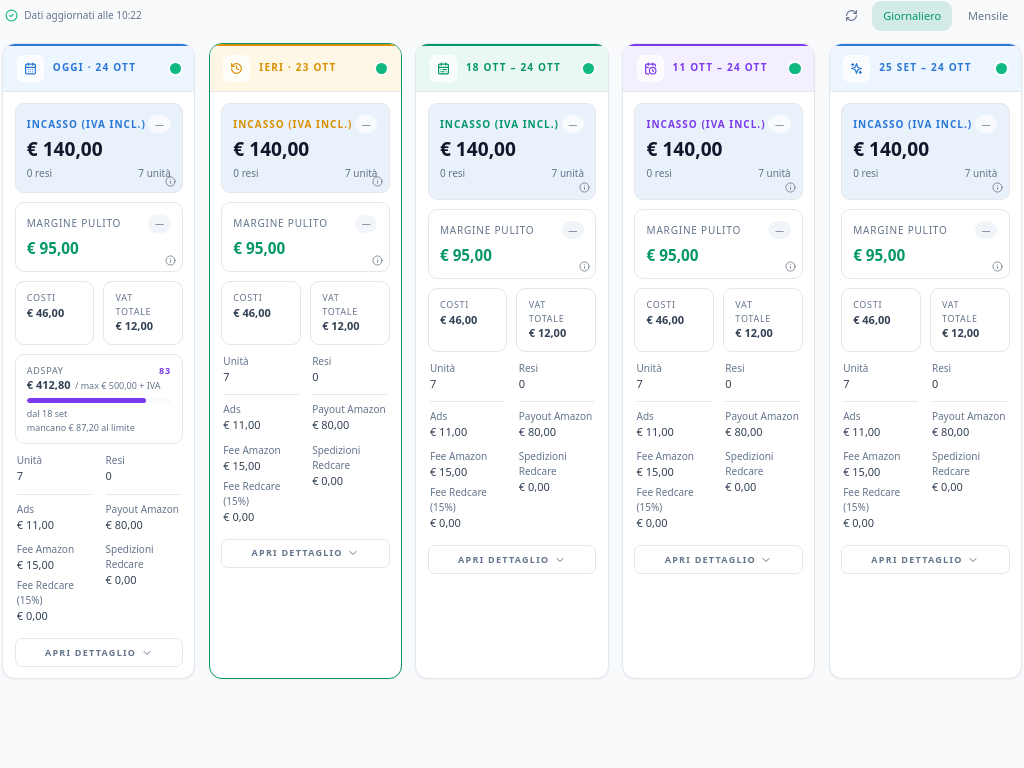
Scenario: PeriodTiles › clicking the Margine pulito box explains the calculation without changing the period
The image size is (1024, 768).
Check: the text "€ 95,00" is shown 5 times, box [27, 238, 79, 258]; [233, 238, 285, 258]; [440, 245, 492, 265]; [646, 245, 698, 265]; [853, 245, 905, 265]
Click the button with aria-label "come è calcolato: margine pulito" at (99, 237), box [14, 202, 183, 272]
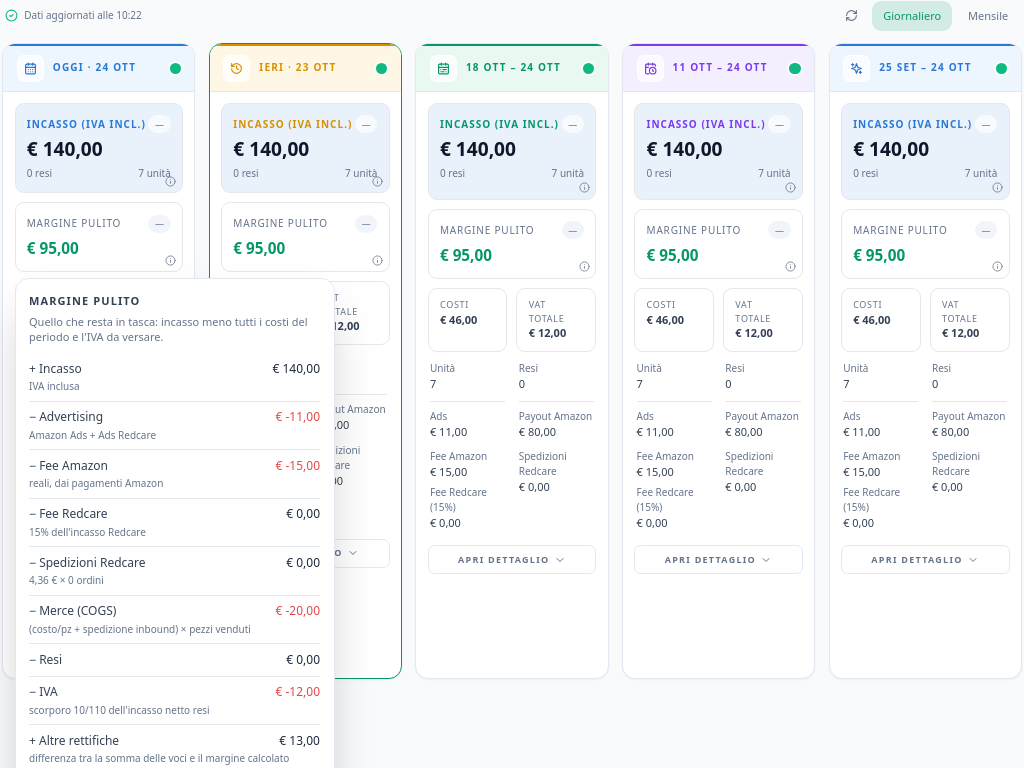
Check: the dialog "Margine pulito" shows "Fee Amazon", box [29, 457, 108, 474]
Check: the dialog "Margine pulito" shows "Merce (COGS)", box [29, 602, 116, 619]
